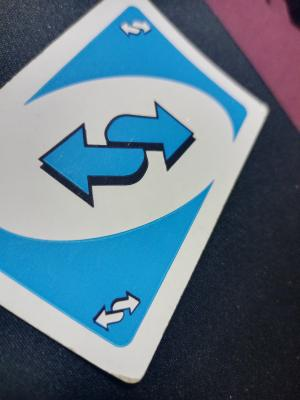blue: (7, 65, 197, 307)
